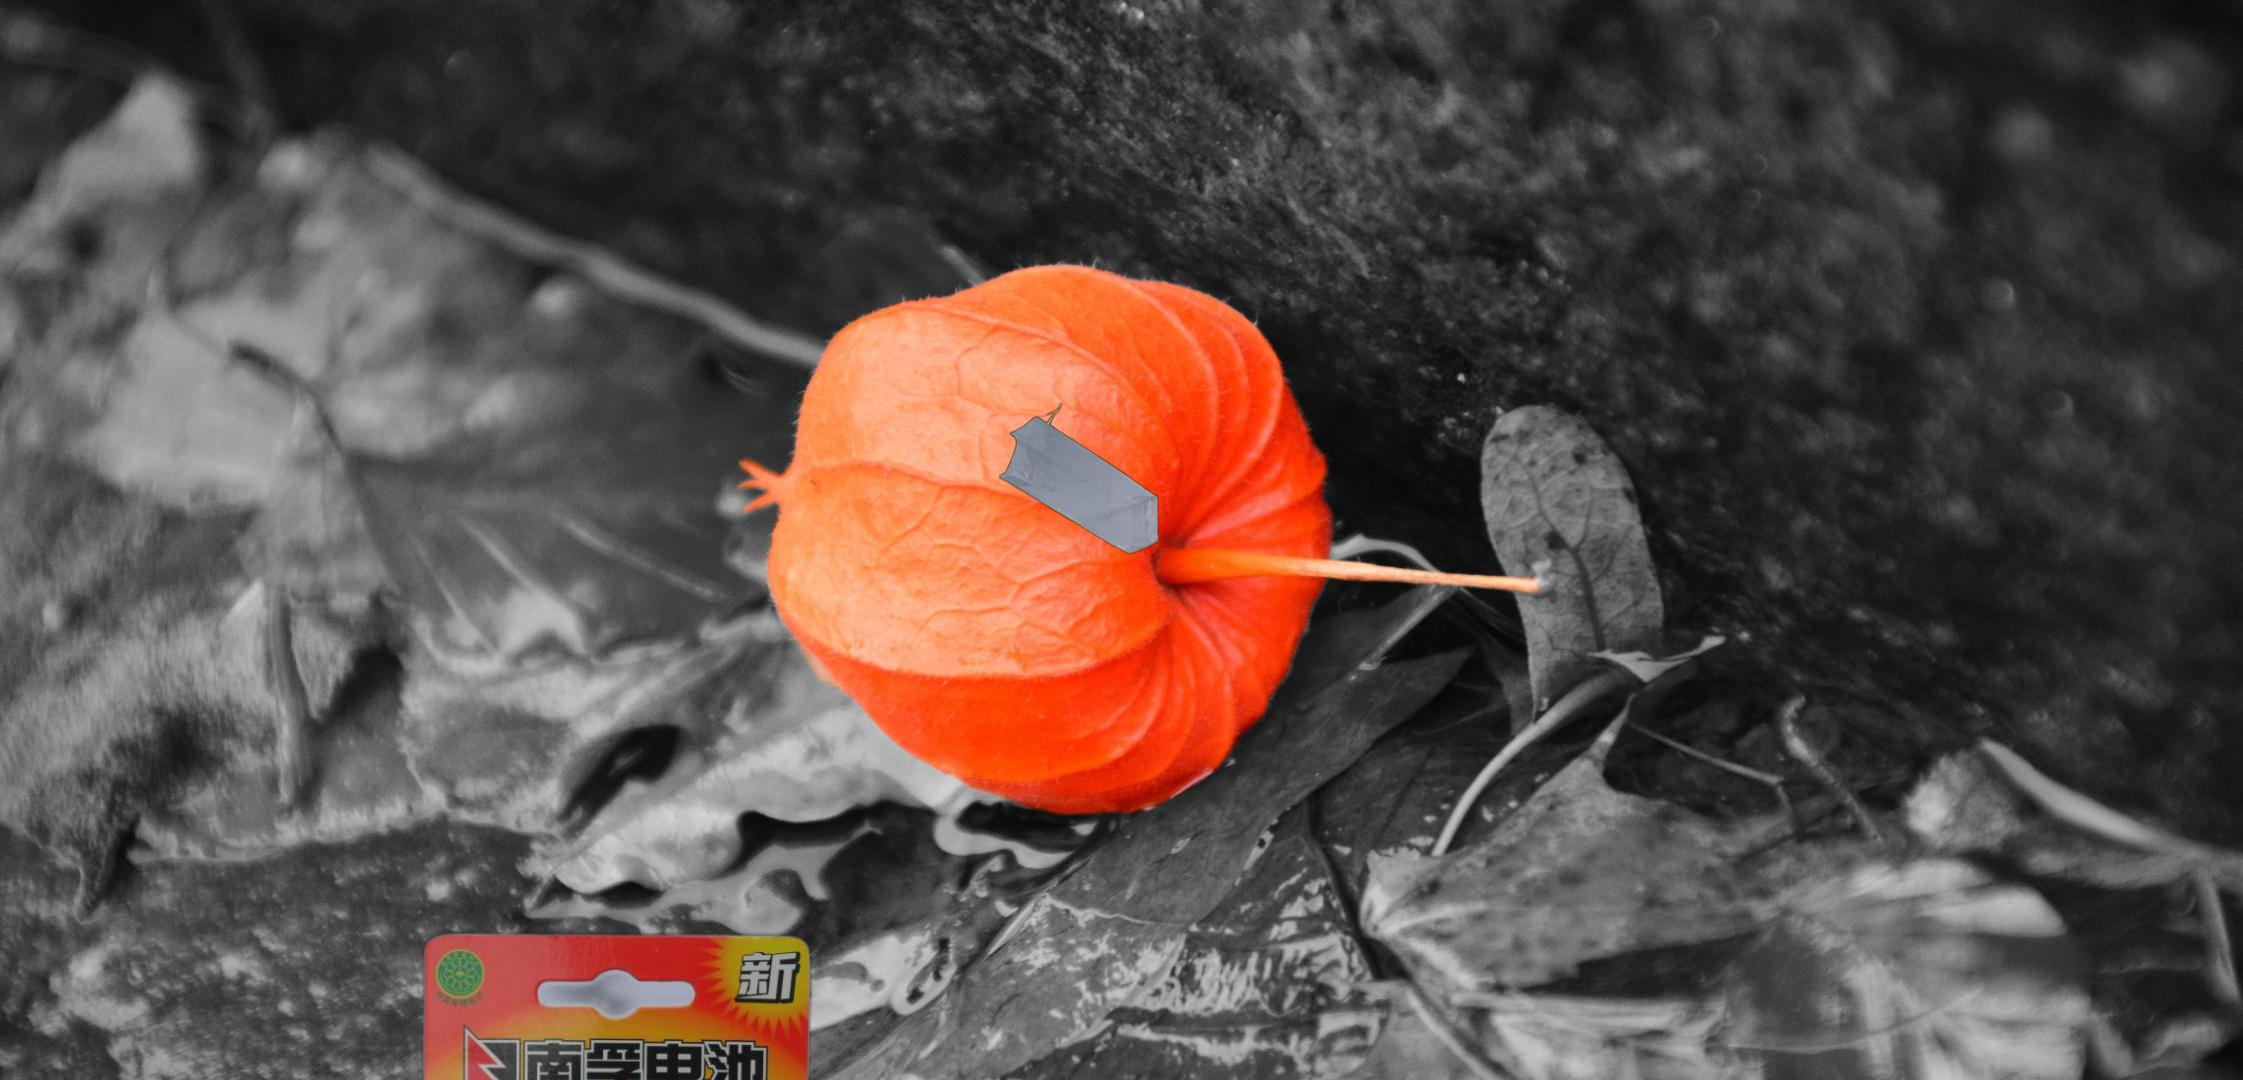battery: (412, 927, 821, 1080)
plastic-bag: (996, 403, 1162, 556)
